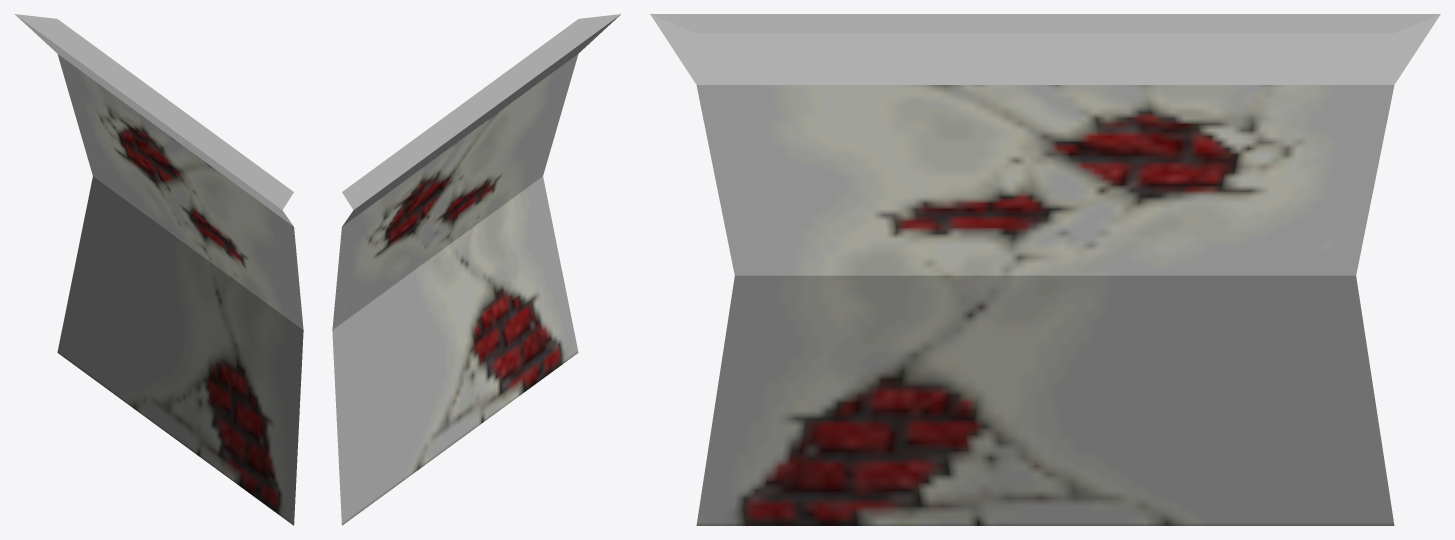
The model's file is W_A1_xx [Verwahrlost2]_1561.glb.
The picture shows the model from 3 angles, left to right: view 1: azimuth 30°, elevation 25°; view 2: azimuth 150°, elevation 25°; view 3: azimuth 270°, elevation 25°; orthographic projection. The views are drawn at different scales.
Parts seen in each view (by area): view 1: pPlaneShape1, polySurfaceShape1065; view 2: pPlaneShape1, polySurfaceShape1065; view 3: pPlaneShape1, polySurfaceShape1065.
Part boxes in pixels (bbox=[...]): pPlaneShape1: bbox=[57, 54, 303, 525]; polySurfaceShape1065: bbox=[15, 14, 293, 226]; pPlaneShape1: bbox=[332, 54, 578, 525]; polySurfaceShape1065: bbox=[342, 14, 620, 226]; pPlaneShape1: bbox=[696, 85, 1394, 525]; polySurfaceShape1065: bbox=[650, 14, 1440, 84].
Size of the model in its own units: 0.0607 by 0.3891 by 0.5666.
Materials: 2 (1 with a texture image).
